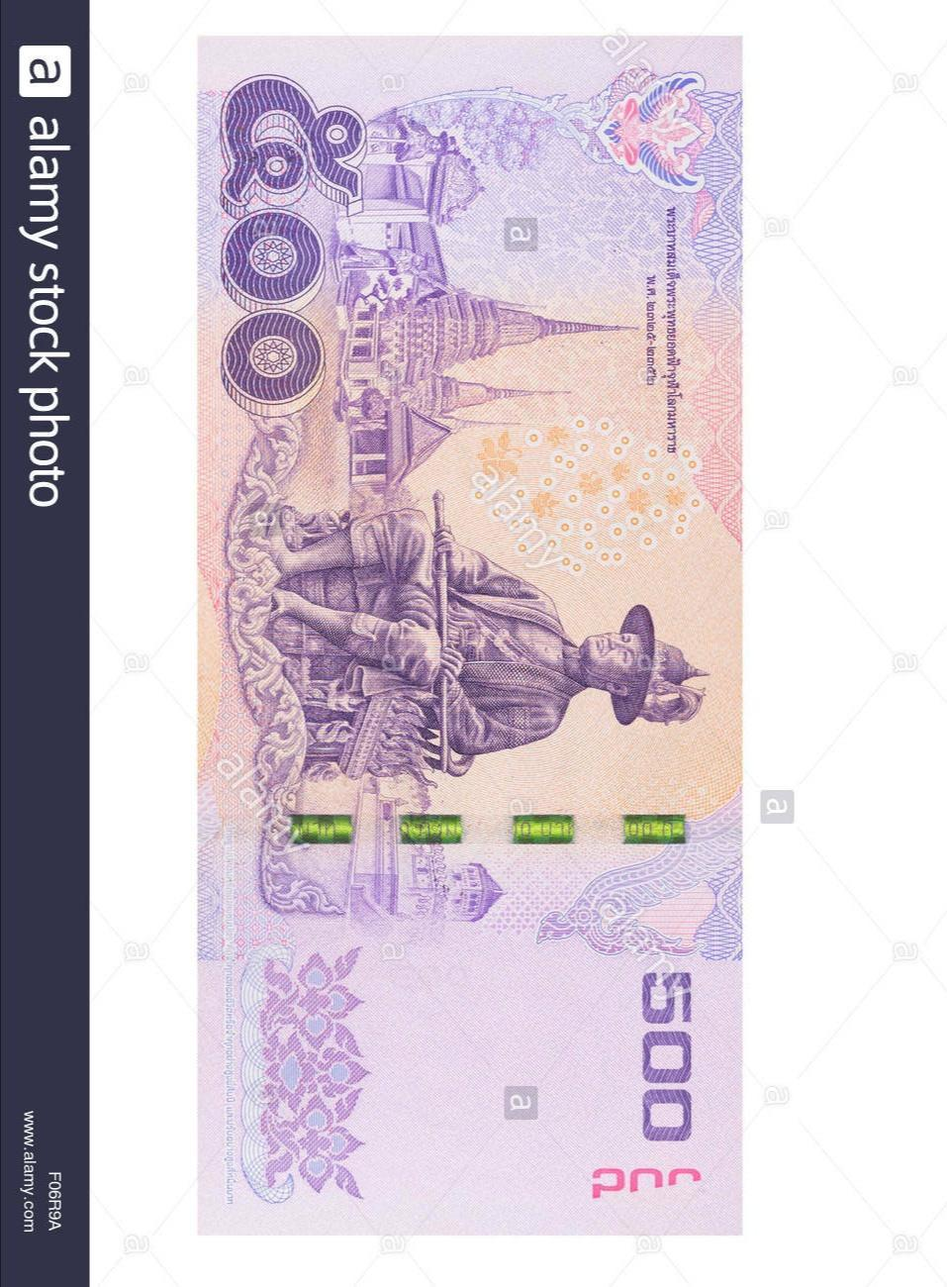500BahtTai: (201, 44, 741, 1241)
